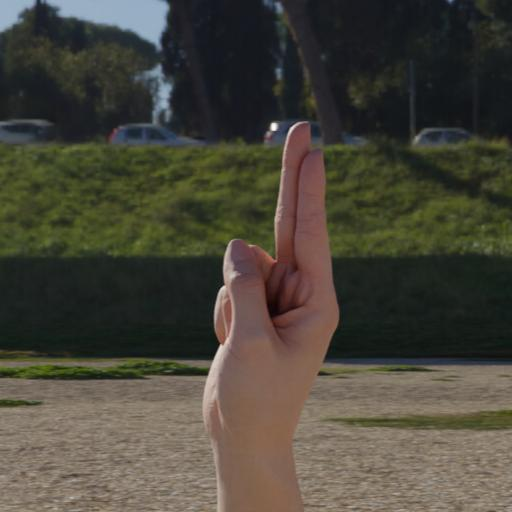U: (165, 90, 352, 448)
